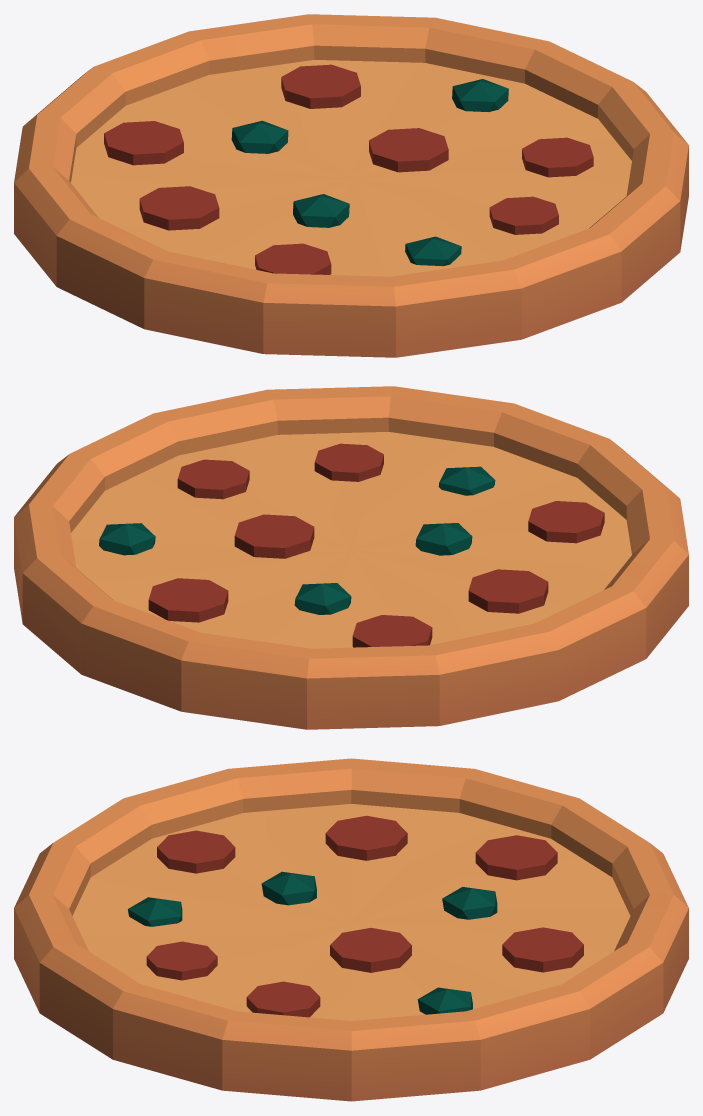
Rendered from Pizza.fbx.
3 views of the same model, one above another, from view 1: azimuth 30°, elevation 25°; view 2: azimuth 150°, elevation 25°; view 3: azimuth 270°, elevation 25° (orthographic).
Parts seen in each view (by area): view 1: Pizza; view 2: Pizza; view 3: Pizza.
Boxes of the visible parts, bbox=[...] form: Pizza: bbox=[14, 14, 688, 357]; Pizza: bbox=[14, 386, 688, 729]; Pizza: bbox=[14, 758, 688, 1101].
Bounding box in the file's own units: 0.4746 × 0.4746 × 0.0509.
